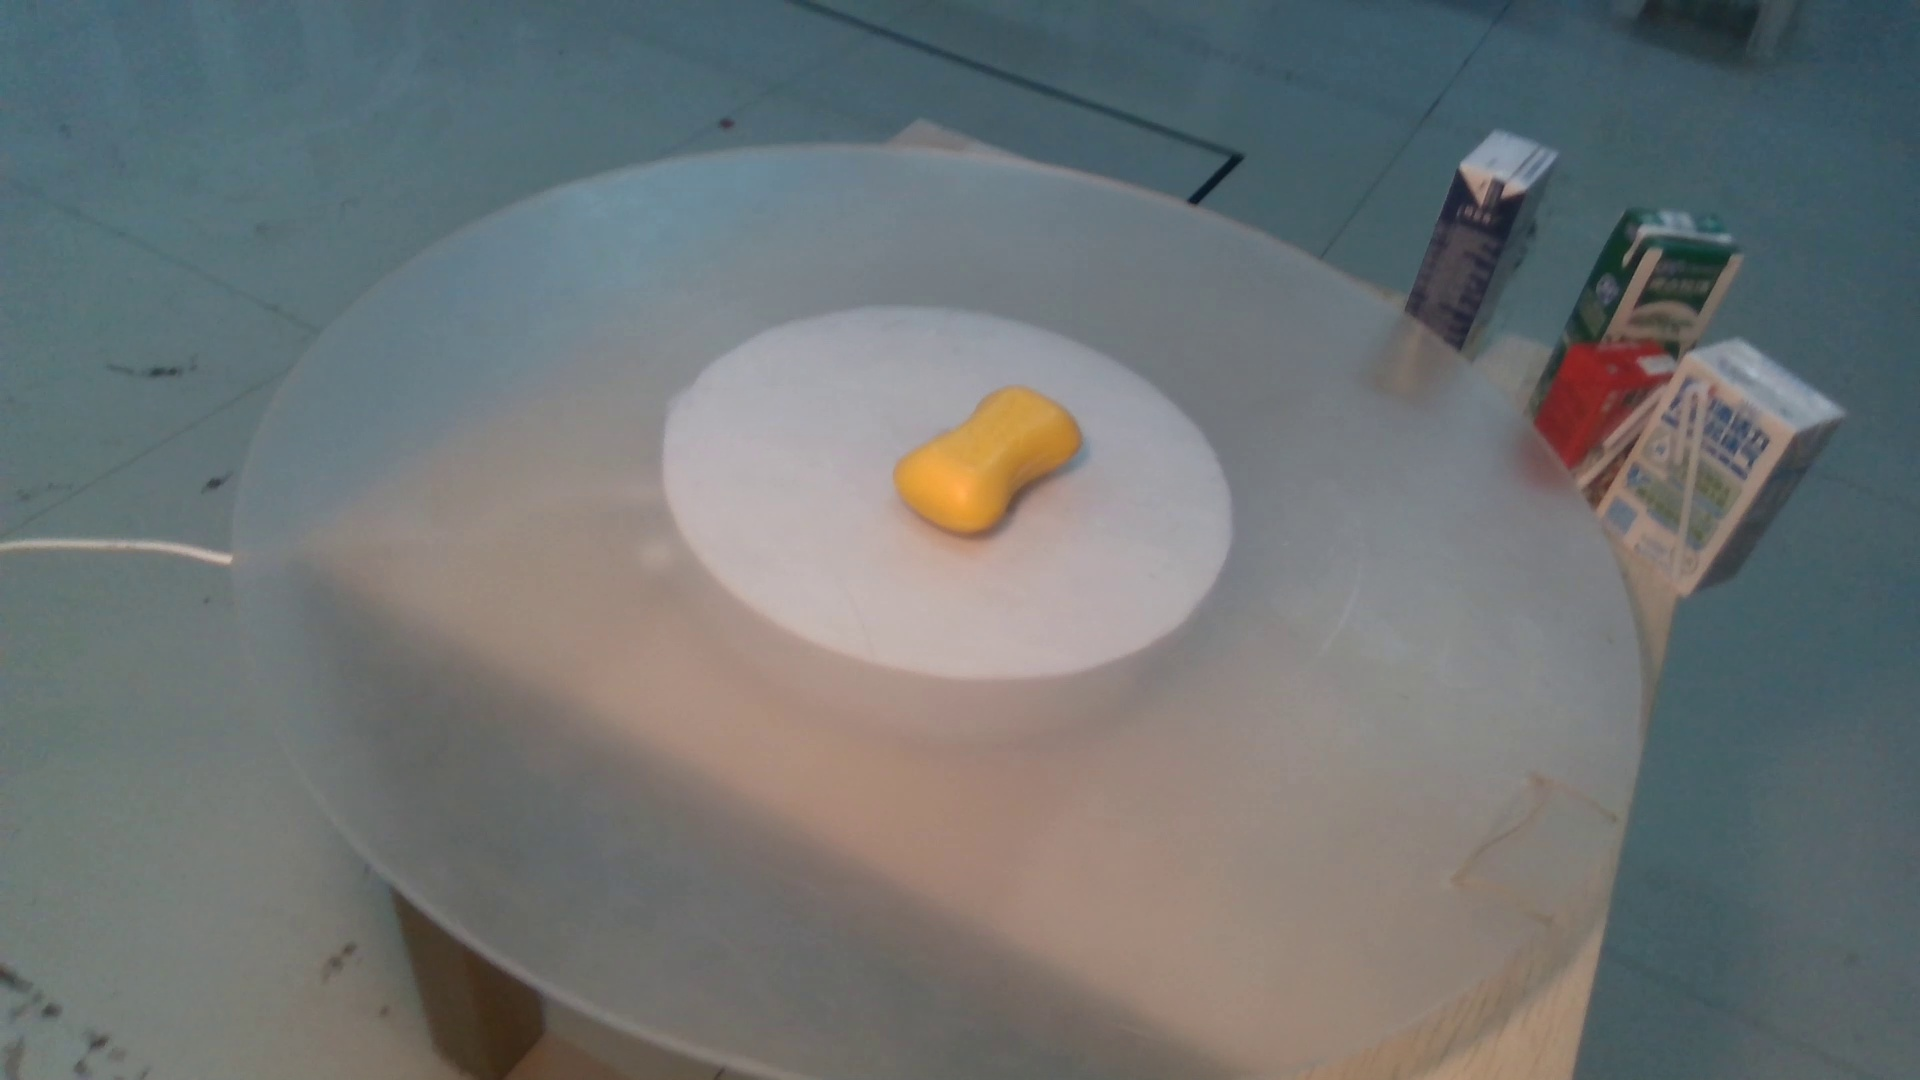CA003_1: (880, 364, 1121, 556)
